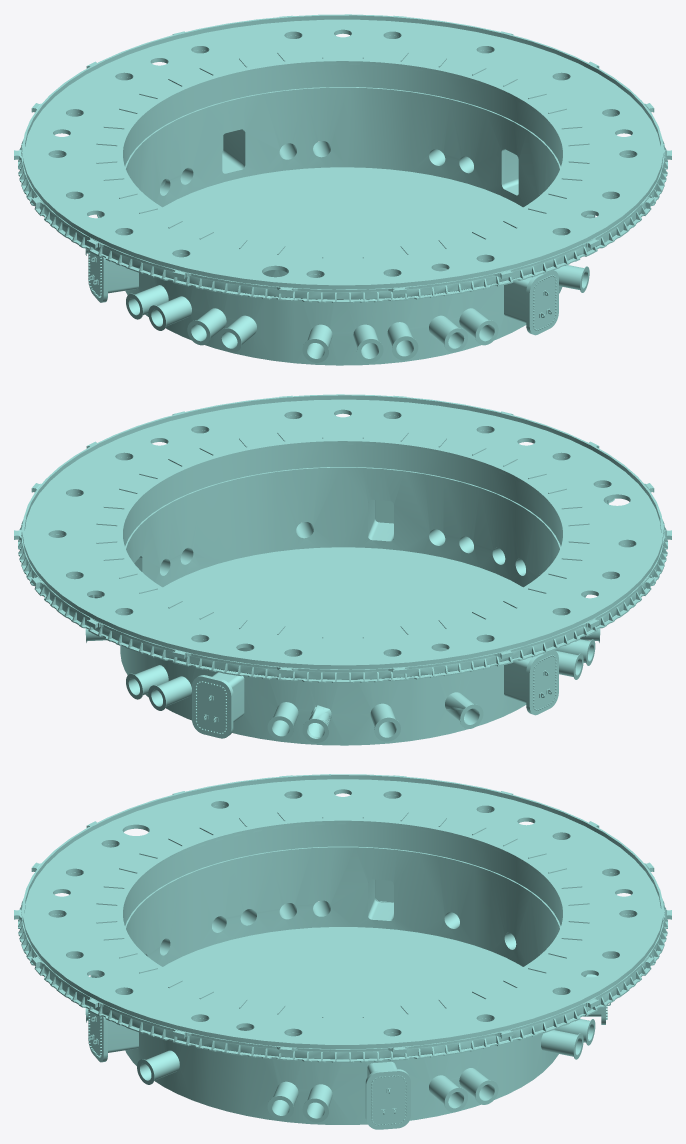
3 views of the same model, one above another, from view 1: azimuth 30°, elevation 25°; view 2: azimuth 150°, elevation 25°; view 3: azimuth 270°, elevation 25° (orthographic).
Visible parts, largest first — view 1: ITER_MESH__cryostat-base; view 2: ITER_MESH__cryostat-base; view 3: ITER_MESH__cryostat-base.
Part boxes in pixels (x1,y1,x2,y2): ITER_MESH__cryostat-base: (14,14,671,365); ITER_MESH__cryostat-base: (14,394,671,745); ITER_MESH__cryostat-base: (14,774,671,1129).
Bounding box in the file's own units: 28.94 × 5.97 × 29.28.
